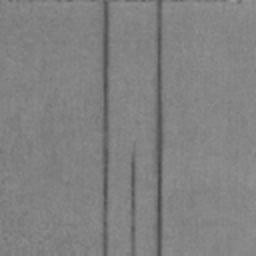Scratches: (102, 0, 111, 256), (155, 0, 164, 256), (130, 153, 136, 256)
